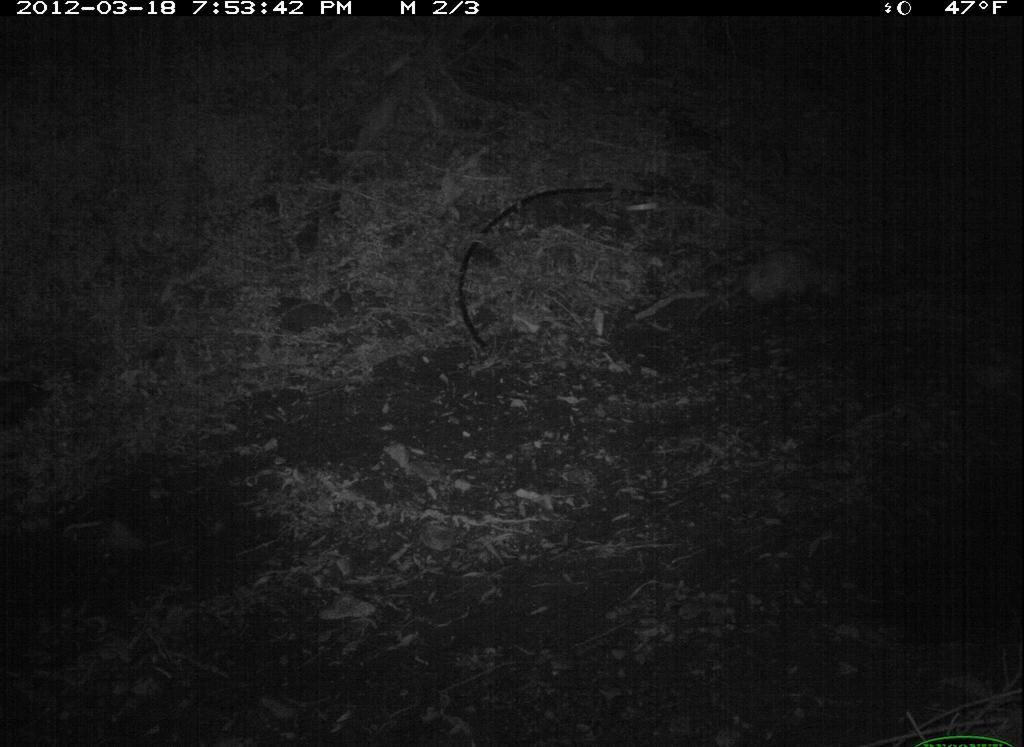opossum: (693, 237, 880, 333)
